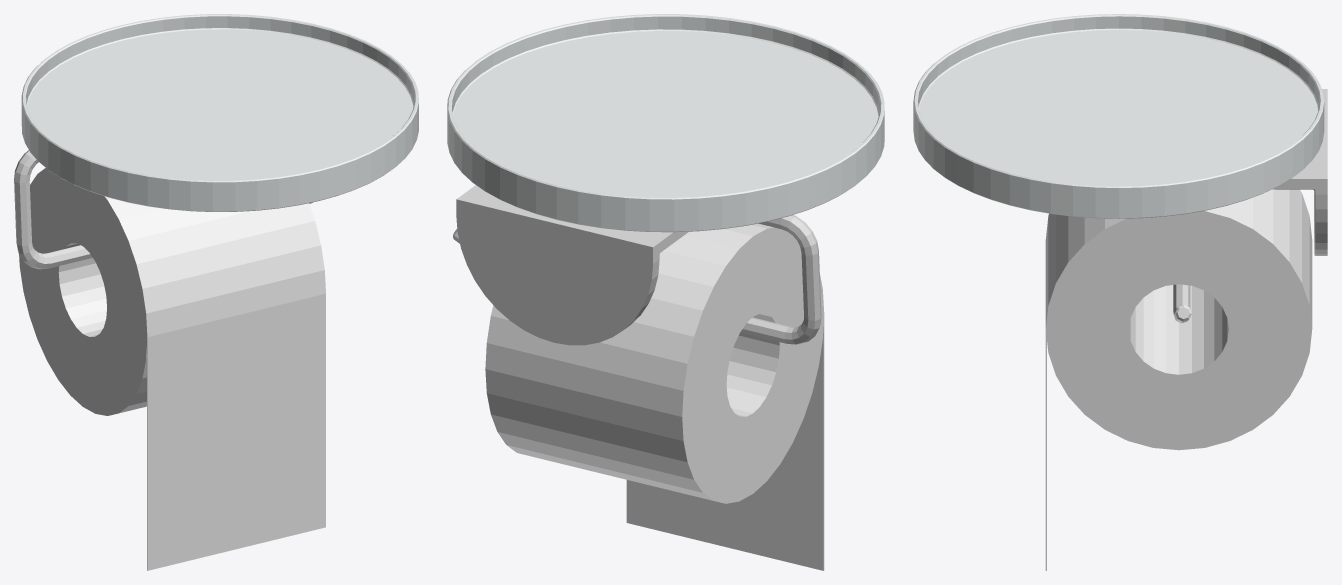
Rendered from AEC_46680.glb.
3 renders of one model, left to right at view 1: azimuth 30°, elevation 25°; view 2: azimuth 150°, elevation 25°; view 3: azimuth 270°, elevation 25°, orthographic. The views are drawn at different scales.
Parts seen in each view (by area): view 1: 0; view 2: 0; view 3: 0.
Part boxes in pixels (left/top/right/bottom): 0: left=14, top=14, right=418, bottom=570; 0: left=447, top=14, right=884, bottom=570; 0: left=913, top=14, right=1327, bottom=570.
Bounding box in the file's own units: 0.185 × 0.2163 × 0.1865.
1 material, 1 textured.
